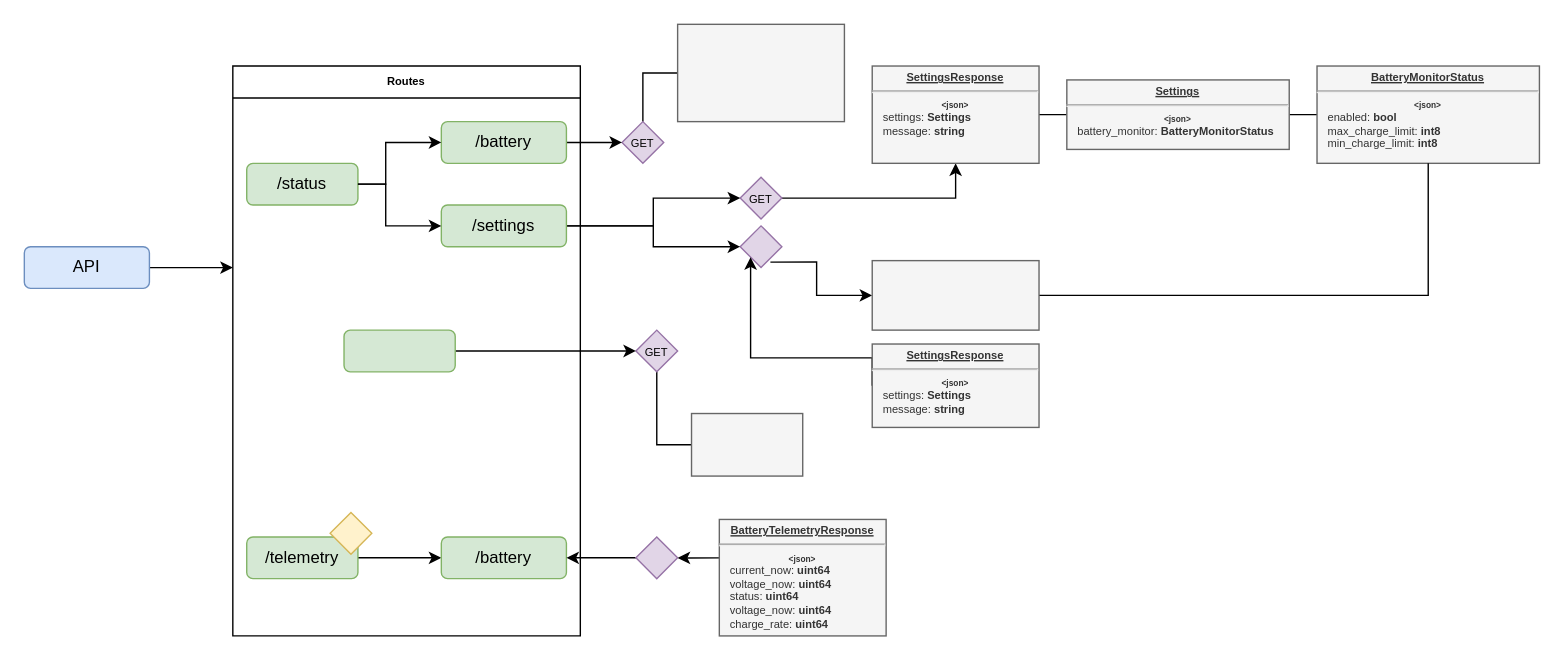
This 1564x660 diagram has some shape labels left out. The centre of each missing label's shape, as x and y in pixels:
/ping: (399,350)
PingResponse "Pong": (746,444)
POST: (760,246)
SetSettingsRequest <json> battery: BatteryMonitorStatus: (955,294)
StatusResponse <json> battery_precentage: int64 message: string: (760,72)
sub: (656,557)
ws://: (350,532)
